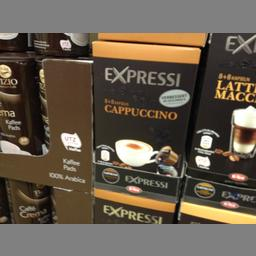coffee: (92, 39, 198, 177), (188, 33, 254, 184), (0, 33, 37, 152)
